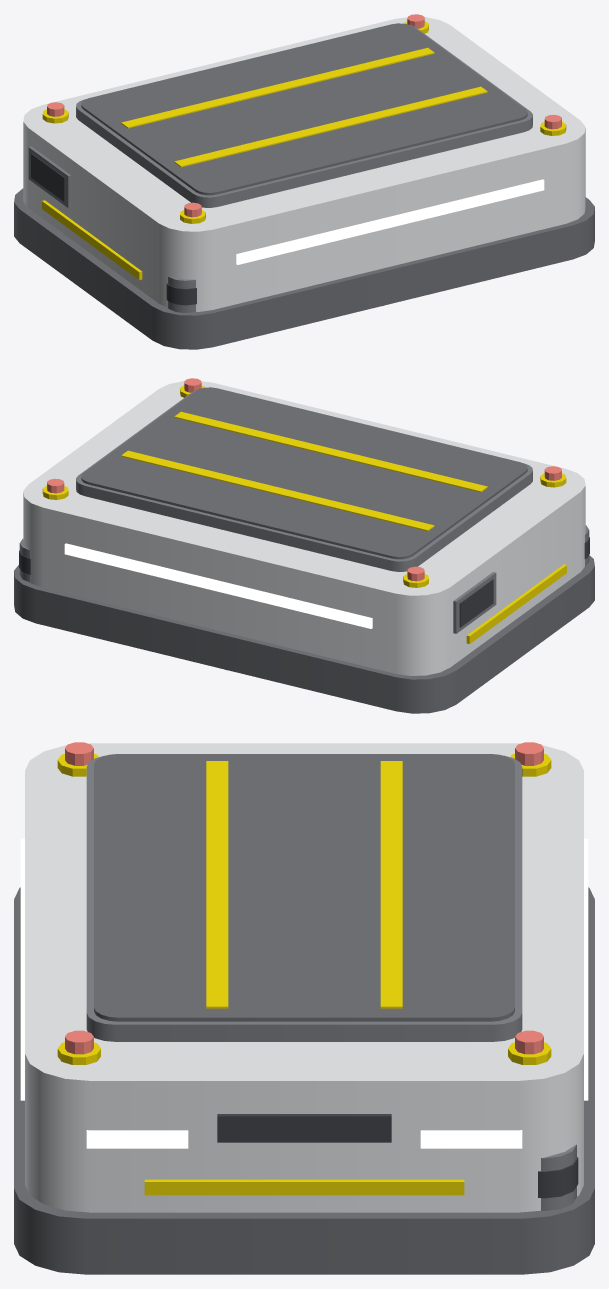
The model's file is agv_medio.glb.
The picture shows the model from 3 angles, top to bottom: view 1: azimuth 30°, elevation 25°; view 2: azimuth 150°, elevation 25°; view 3: azimuth 270°, elevation 25°; orthographic projection. The views are drawn at different scales.
Visible parts, largest first — view 1: chassi, mesa, luz; view 2: chassi, mesa, luz; view 3: chassi, mesa, luz.
Boxes of the visible parts, x1,y1,x2,y2 form: chassi: [14, 14, 594, 349]; mesa: [76, 23, 532, 207]; luz: [236, 179, 544, 264]; chassi: [14, 378, 594, 713]; mesa: [76, 387, 532, 571]; luz: [64, 543, 372, 628]; chassi: [14, 742, 594, 1274]; mesa: [86, 754, 522, 1041]; luz: [20, 838, 588, 1148].
Bounding box in the file's own units: 1.14 × 0.353 × 0.8.
